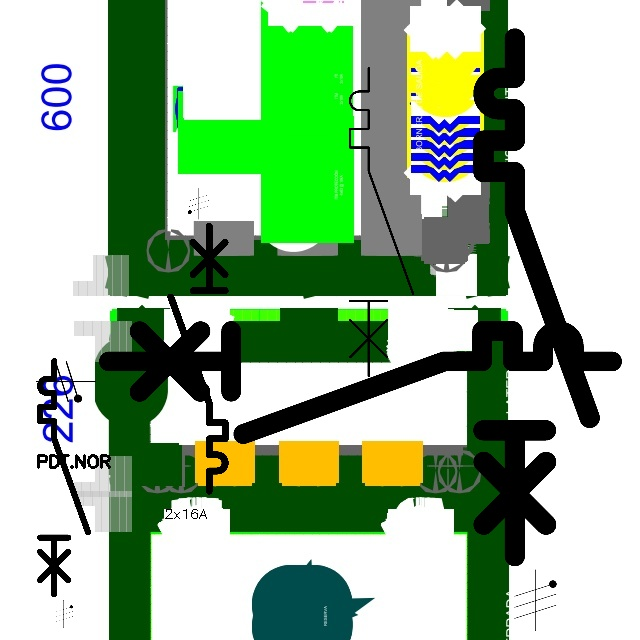interruptor_termomagnetico: (470, 25, 603, 569), (95, 318, 624, 447), (342, 60, 421, 384), (164, 219, 232, 498), (34, 355, 94, 600)
